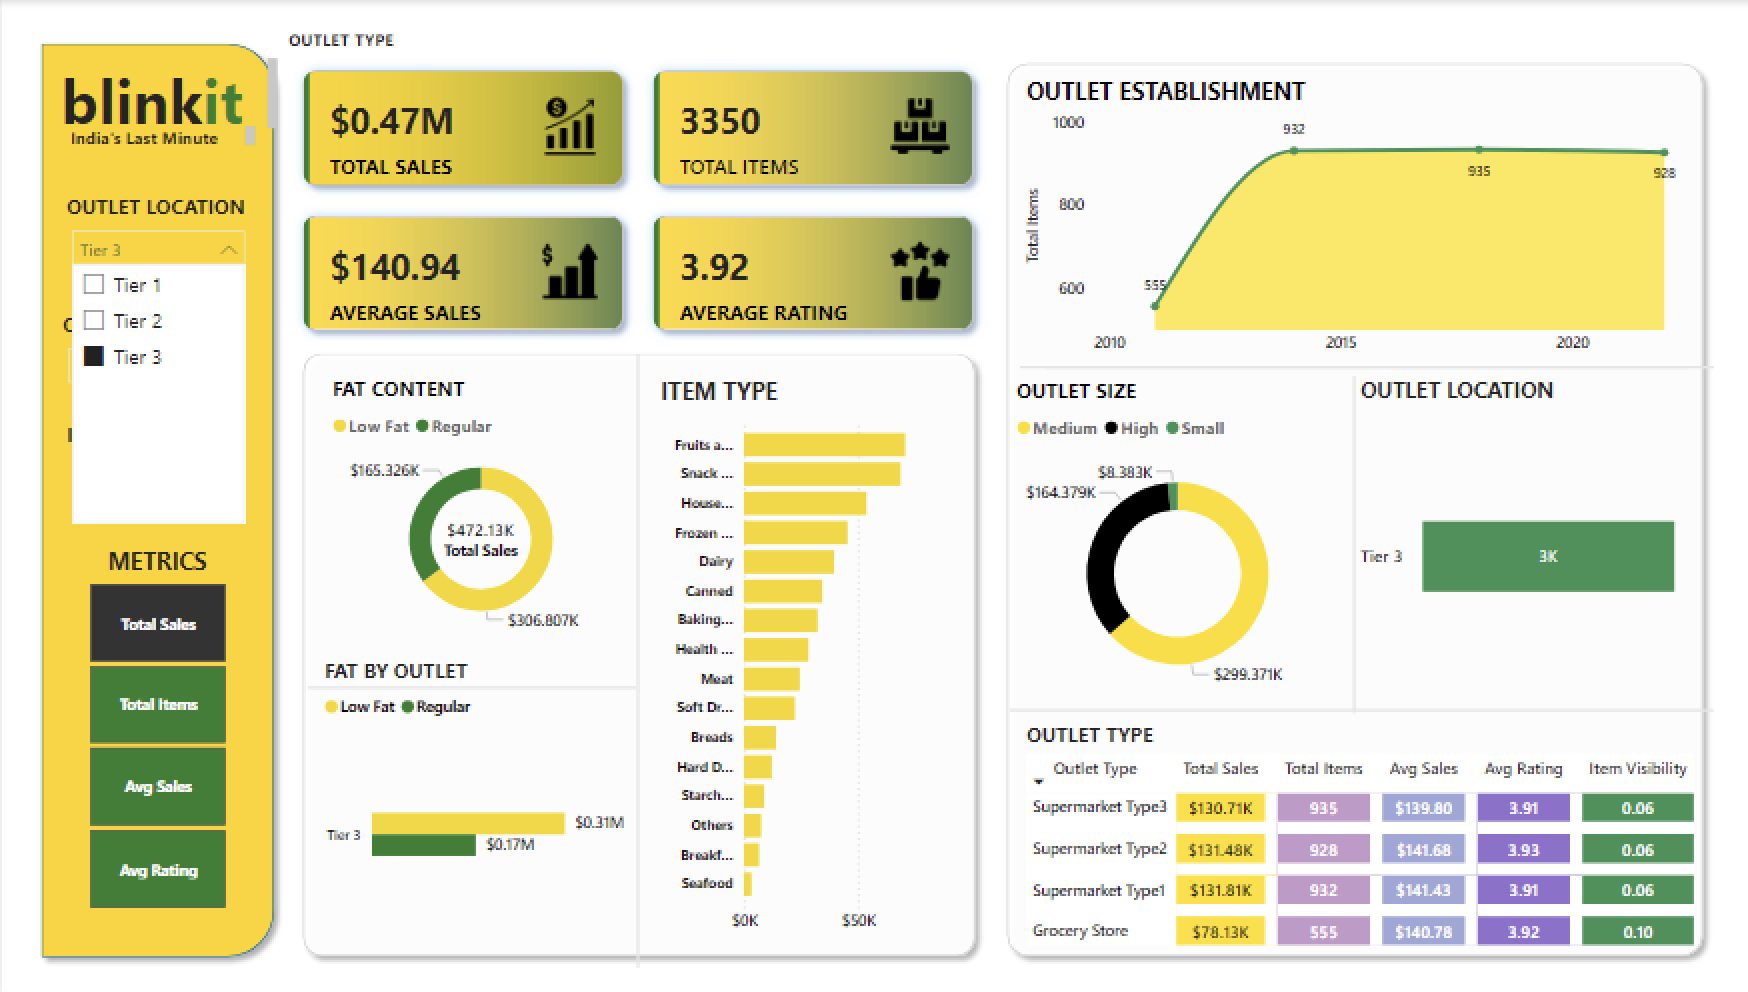

What the dashboard file says about the page in this screenshot:
{"tool":"powerbi","page":{"name":"Dashboard","canvas":[1400,800],"ordinal":0},"visuals":[{"type":"shape","box":[22.7,25.2,204.3,749.2],"z":0},{"type":"textbox","box":[22.4,41.6,203.2,70.4],"z":1000},{"type":"textbox","box":[49.6,96,158.4,30.4],"z":2000},{"type":"cardVisual","title":"OUTLET TYPE","fields":{"Data":["BlinkIT Grocery Data.Total Sales","BlinkIT Grocery Data.Total Items","BlinkIT Grocery Data.Avg Sales","BlinkIT Grocery Data.Avg Rating"]},"box":[224.5,22.8,570.7,260.6],"z":3000},{"type":"shape","box":[232.1,273.9,555.4,500.3],"z":4000},{"type":"donutChart","title":"FAT CONTENT","fields":{"Y":["BlinkIT Grocery Data.Avg Rating"],"Category":["BlinkIT Grocery Data.Item Fat Content"]},"box":[259.2,299.2,248,214.4],"z":5000},{"type":"slicer","title":"METRICS","fields":{"Values":["Metrics.Metrics"]},"box":[44.8,435.2,158.4,297.6],"z":6000},{"type":"cardVisual","fields":{"Data":["BlinkIT Grocery Data.Total Sales"]},"box":[324.8,382.4,116.8,99.2],"z":7000},{"type":"clusteredBarChart","title":"FAT BY OUTLET","fields":{"Y":["BlinkIT Grocery Data.Avg Rating"],"Series":["BlinkIT Grocery Data.Item Fat Content"],"Category":["BlinkIT Grocery Data.Outlet Location Type"]},"box":[252.8,524.8,249.6,230.4],"z":8000},{"type":"shape","box":[245.4,545.9,262.5,9.5],"z":9000},{"type":"shape","box":[502.4,283.2,12.8,491.2],"z":10000},{"type":"clusteredBarChart","title":"ITEM TYPE","fields":{"Y":["BlinkIT Grocery Data.Avg Rating"],"Category":["BlinkIT Grocery Data.Item Type"]},"box":[521.6,299.2,236.8,456],"z":11000},{"type":"shape","box":[795.1,41.8,574.5,732.3],"z":12000},{"type":"lineChart","title":"OUTLET ESTABLISHMENT","fields":{"Category":["BlinkIT Grocery Data.Outlet Establishment Year"],"Y":["BlinkIT Grocery Data.Total Items"]},"box":[814.1,59,534.5,234],"z":13000},{"type":"shape","box":[814.1,283.4,534.5,20.9],"z":14000},{"type":"donutChart","title":"OUTLET SIZE","fields":{"Y":["BlinkIT Grocery Data.Total Sales"],"Category":["BlinkIT Grocery Data.Outlet Size"]},"box":[806.5,300.5,268.2,266.3],"z":15000},{"type":"shape","box":[835.1,283.4,534.5,20.9],"z":16000},{"type":"shape","box":[1074.7,300.5,13.3,270.1],"z":17000},{"type":"funnel","title":"OUTLET LOCATION","fields":{"Y":["BlinkIT Grocery Data.Total Items"],"Category":["BlinkIT Grocery Data.Outlet Location Type"]},"box":[1082.3,298.6,266.3,268.2],"z":18000},{"type":"pivotTable","title":"OUTLET TYPE","fields":{"Rows":["BlinkIT Grocery Data.Outlet Type"],"Values":["BlinkIT Grocery Data.Total Sales","BlinkIT Grocery Data.Total Items","BlinkIT Grocery Data.Avg Sales","BlinkIT Grocery Data.Avg Rating","Avg(BlinkIT Grocery Data.Item Visibility)"]},"box":[814.1,570.7,568.8,203.5],"z":19000},{"type":"shape","box":[806.5,566.8,563,3.8],"z":20000},{"type":"slicer","title":"OUTLET LOCATION","fields":{"Values":["BlinkIT Grocery Data.Outlet Location Type"]},"box":[45.7,154.1,157.9,70.4],"z":20001},{"type":"slicer","title":"OUTLET SIZE","fields":{"Values":["BlinkIT Grocery Data.Outlet Size"]},"box":[43.8,247.3,157.9,70.4],"z":20002},{"type":"slicer","title":"ITEM TYPE","fields":{"Values":["BlinkIT Grocery Data.Item Type"]},"box":[45.7,336.7,157.9,70.4],"z":20003}]}

Visuals, with their boxes in screenshot pixels (x1, y1, x2, y2), scaled from the page's 1400x800 canvas onto the 1748x992 screenshot:
shape: <region>28, 31, 283, 960</region>
textbox: <region>28, 52, 282, 139</region>
textbox: <region>62, 119, 260, 157</region>
"OUTLET TYPE" cardVisual: <region>280, 28, 993, 351</region>
shape: <region>290, 340, 983, 960</region>
"FAT CONTENT" donutChart: <region>324, 371, 633, 637</region>
"METRICS" slicer: <region>56, 540, 254, 909</region>
cardVisual - BlinkIT Grocery Data.Total Sales: <region>406, 474, 551, 597</region>
"FAT BY OUTLET" clusteredBarChart: <region>316, 651, 627, 936</region>
shape: <region>306, 677, 634, 689</region>
shape: <region>627, 351, 643, 960</region>
"ITEM TYPE" clusteredBarChart: <region>651, 371, 947, 936</region>
shape: <region>993, 52, 1710, 960</region>
"OUTLET ESTABLISHMENT" lineChart: <region>1016, 73, 1684, 363</region>
shape: <region>1016, 351, 1684, 377</region>
"OUTLET SIZE" donutChart: <region>1007, 373, 1342, 703</region>
shape: <region>1043, 351, 1710, 377</region>
shape: <region>1342, 373, 1358, 708</region>
"OUTLET LOCATION" funnel: <region>1351, 370, 1684, 703</region>
"OUTLET TYPE" pivotTable: <region>1016, 708, 1727, 960</region>
shape: <region>1007, 703, 1710, 708</region>
"OUTLET LOCATION" slicer: <region>57, 191, 254, 278</region>
"OUTLET SIZE" slicer: <region>55, 307, 252, 394</region>
"ITEM TYPE" slicer: <region>57, 418, 254, 505</region>
